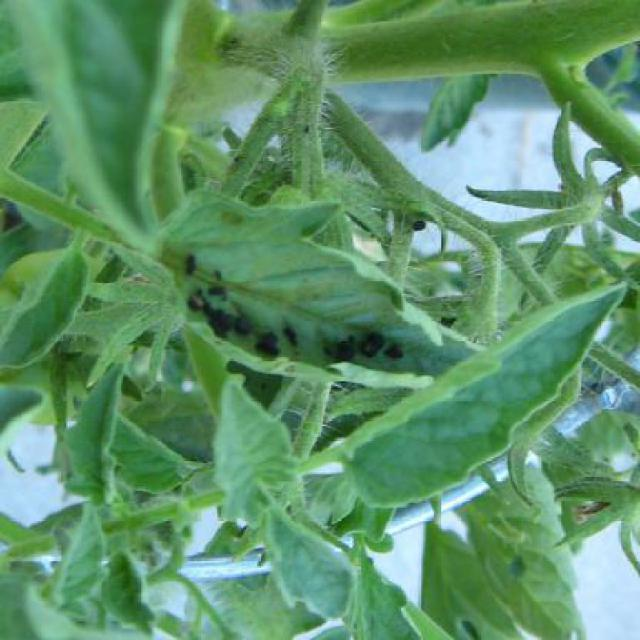Tomato bacterial spot leaf: (324, 283, 632, 500)
